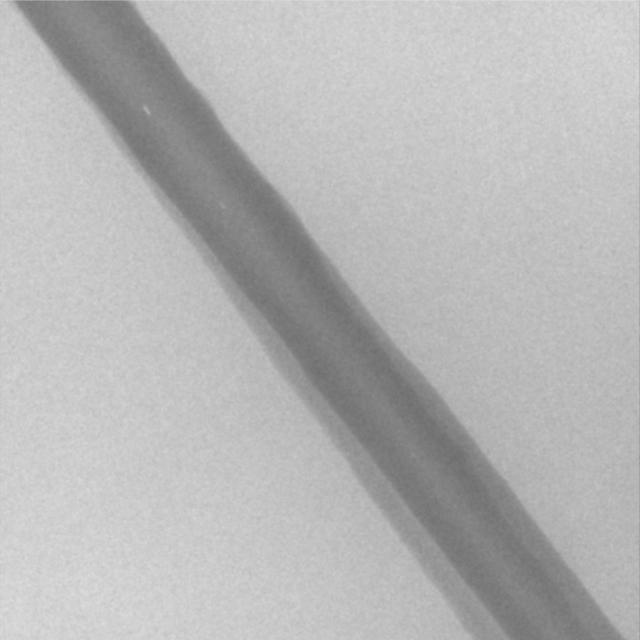air hole: (141, 104, 151, 118)
